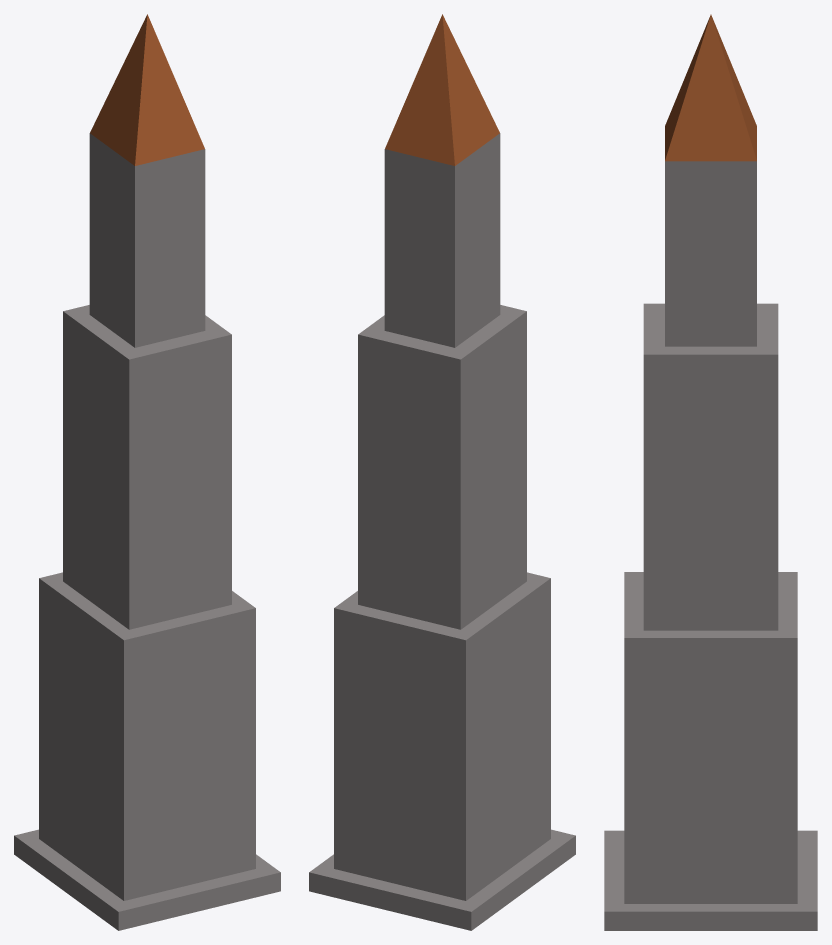
Rendered from Skyscraper.fbx.
The picture shows the model from 3 angles, left to right: view 1: azimuth 30°, elevation 25°; view 2: azimuth 150°, elevation 25°; view 3: azimuth 270°, elevation 25°; orthographic projection. The views are drawn at different scales.
Visible parts, largest first — view 1: Skyscraper; view 2: Skyscraper; view 3: Skyscraper.
Boxes of the visible parts, x1=… form: Skyscraper: x1=14, y1=14, x2=280, y2=930; Skyscraper: x1=309, y1=14, x2=575, y2=930; Skyscraper: x1=604, y1=14, x2=817, y2=930.
Bounding box in the file's own units: 3329 × 16835 × 3708.
